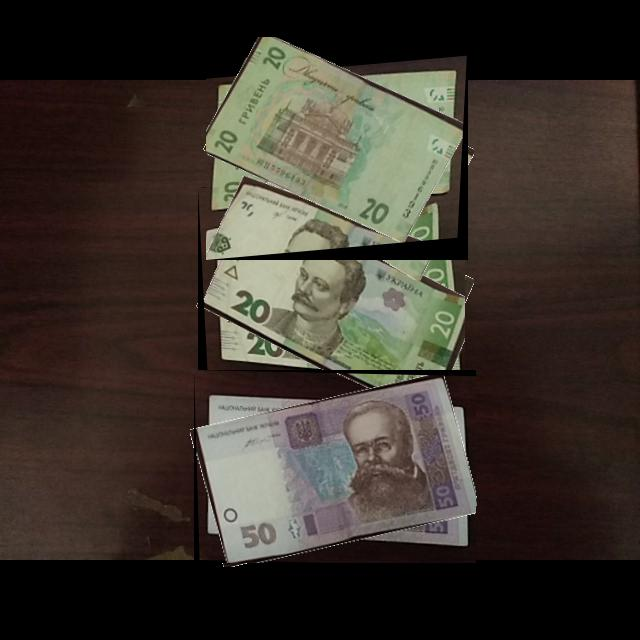20uah: (203, 191, 466, 406), (206, 37, 465, 247)
50uah: (196, 375, 477, 564)
